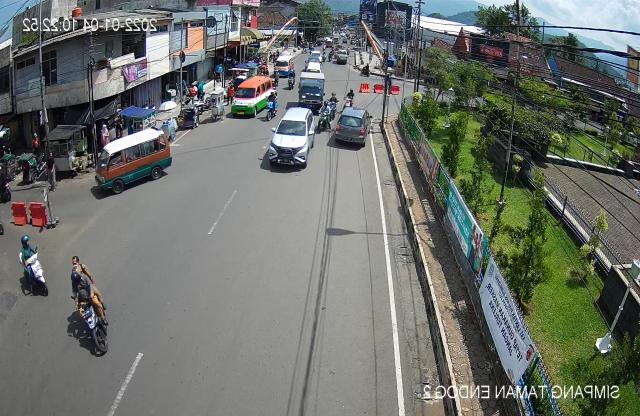Mobil: (93, 125, 177, 197), (264, 109, 318, 174), (230, 74, 275, 126), (331, 104, 374, 154)
Motor: (63, 249, 115, 357), (12, 235, 50, 300), (259, 90, 281, 122), (317, 97, 336, 132)
